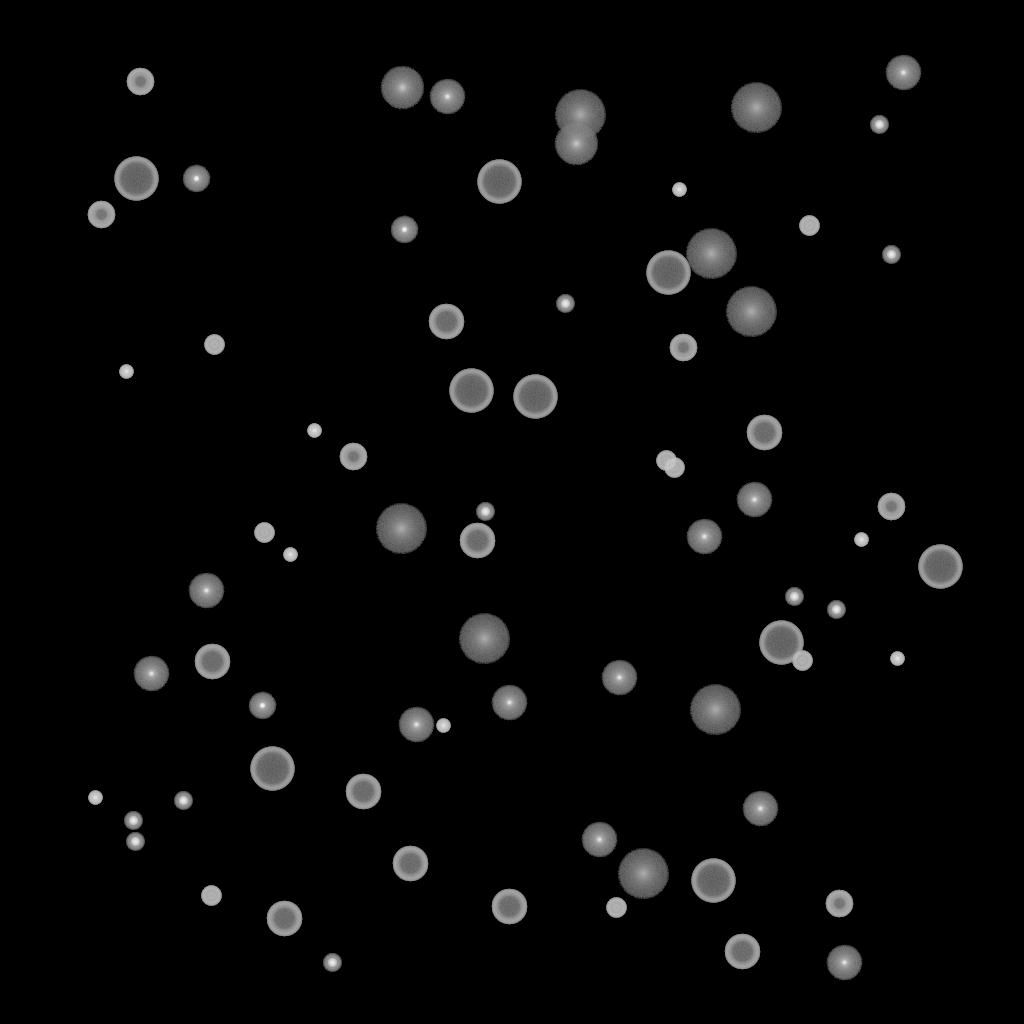depth:-10: (182, 165, 210, 193), (390, 216, 418, 244), (248, 692, 276, 720)
depth:-20: (827, 601, 845, 619), (882, 246, 900, 264), (870, 116, 888, 134), (174, 792, 192, 810), (785, 588, 803, 606), (124, 812, 142, 830), (556, 295, 574, 313), (323, 954, 341, 972), (476, 503, 494, 521), (126, 833, 144, 851)
depth:-30: (890, 652, 904, 666), (283, 548, 297, 562), (854, 533, 868, 547), (119, 365, 133, 379), (88, 791, 102, 805), (672, 183, 686, 197), (436, 719, 450, 733), (307, 424, 321, 438)
depth:-40: (606, 898, 626, 918), (664, 458, 684, 478), (201, 886, 221, 906), (799, 216, 819, 236), (254, 523, 274, 543), (656, 451, 676, 471), (792, 651, 812, 671), (204, 335, 224, 355)
depth:-50: (126, 68, 154, 96), (87, 201, 115, 229), (339, 443, 367, 471), (877, 493, 905, 521), (825, 890, 853, 918), (669, 334, 697, 362)
depth:-60: (724, 934, 760, 970), (746, 415, 782, 451), (194, 644, 230, 680), (266, 901, 302, 937), (428, 304, 464, 340), (459, 523, 495, 559), (491, 889, 527, 925), (345, 774, 381, 810), (392, 846, 428, 882)
depth:-70: (759, 621, 803, 665), (646, 251, 690, 295), (114, 157, 158, 201), (477, 160, 521, 204), (918, 545, 962, 589), (250, 747, 294, 791), (449, 369, 493, 413), (513, 375, 557, 419), (691, 859, 735, 903)
depth:0: (736, 482, 772, 518), (133, 656, 169, 692), (885, 55, 921, 91), (581, 822, 617, 858), (686, 519, 722, 555), (188, 573, 224, 609), (826, 945, 862, 981), (601, 660, 637, 696), (491, 685, 527, 721), (742, 791, 778, 827), (398, 707, 434, 743), (429, 79, 465, 115)
depth:10: (380, 66, 424, 110), (554, 122, 598, 166)
depth:20: (554, 90, 606, 140), (730, 83, 782, 133), (689, 685, 741, 735), (725, 287, 777, 337), (375, 504, 427, 554), (458, 614, 510, 664), (617, 849, 669, 899), (685, 229, 737, 279)
